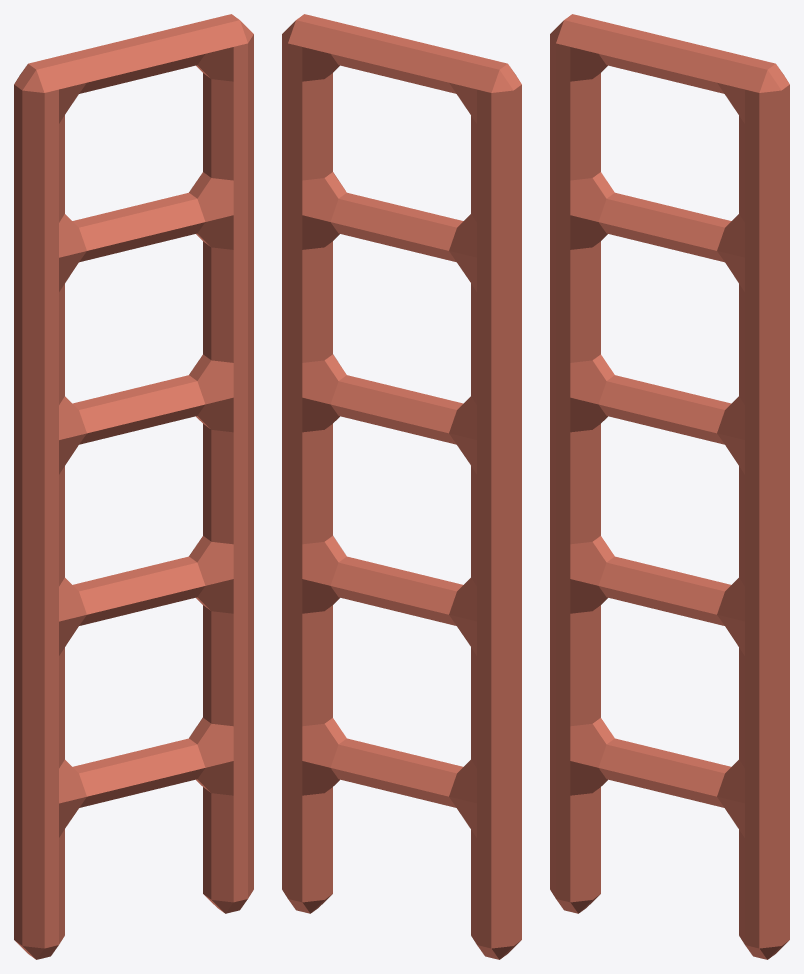
Rendered from 3D_Navy_Ladder.FBX.
3 renders of one model, left to right at view 1: azimuth 30°, elevation 25°; view 2: azimuth 150°, elevation 25°; view 3: azimuth 330°, elevation 25°, orthographic.
Parts seen in each view (by area): view 1: 3D_Navy_ladder; view 2: 3D_Navy_ladder; view 3: 3D_Navy_ladder.
Boxes of the visible parts, bbox=[...] form: 3D_Navy_ladder: bbox=[14, 14, 253, 959]; 3D_Navy_ladder: bbox=[282, 14, 521, 959]; 3D_Navy_ladder: bbox=[550, 14, 789, 959].
Bounding box in the file's own units: 54.45 × 200 × 10.
Materials: 1 (1 with a texture image).
